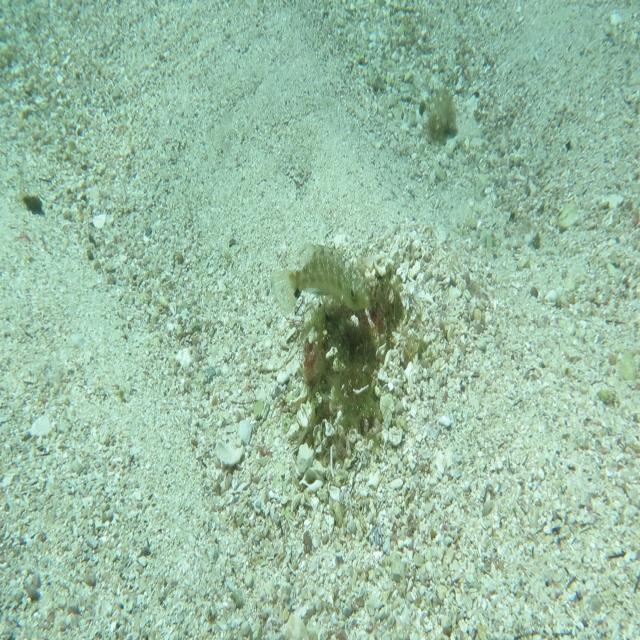MAN: (270, 242, 371, 315)
core_nest: (353, 286, 398, 328)
nest: (290, 254, 421, 463)
vegetation: (425, 78, 457, 141), (24, 192, 45, 216)
